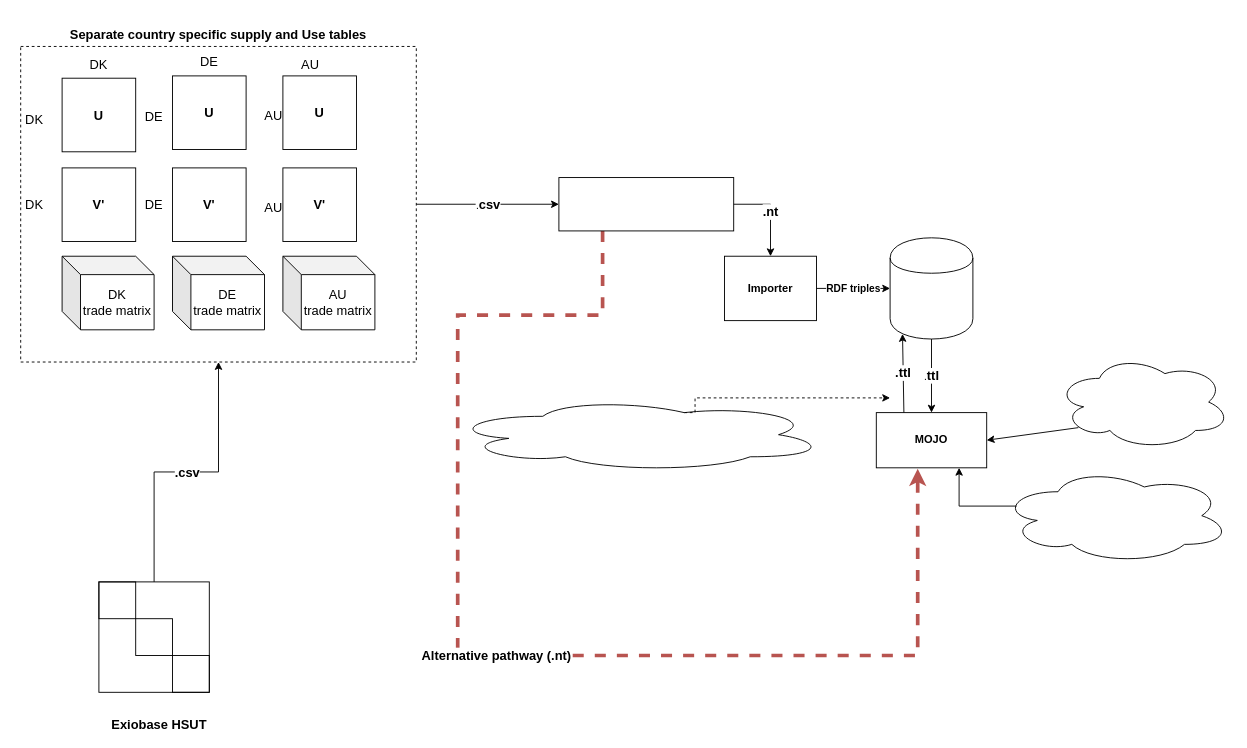
Some shapes in this 1247 by 748 pixel diagram are drawn without their labels. The centre of each missing label's shape, as x and y in pixels:
"Algorithm Combine the trade matrix with the country specific SUT" goes at pixel 1115 515.
"Algorithms (e.g. by product technology method)" goes at pixel 1142 401.
"Exiobase_conversion_Software" goes at pixel 646 204.
"Returns triples for the complete MRIO table" goes at pixel 637 434.
"triplestore" goes at pixel 931 288.
